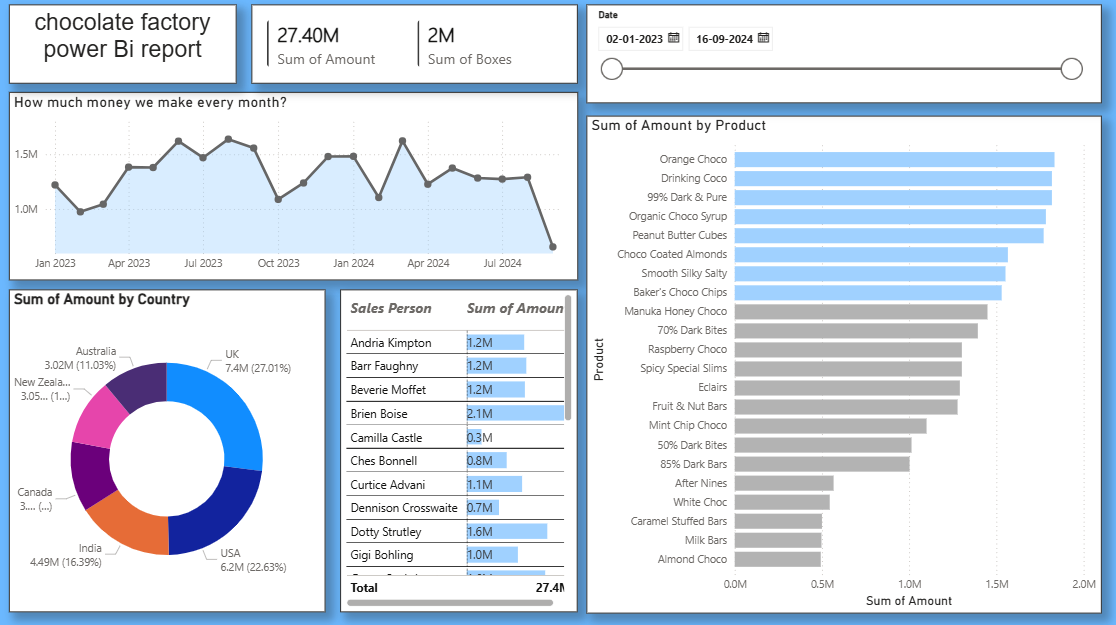

This screenshot's page, from the dashboard's own definition file:
{"tool":"powerbi","page":{"name":"Page 1","canvas":[1280,720],"ordinal":0},"visuals":[{"type":"lineChart","title":"How much money we make every month?","fields":{"Y":["Sum(data.Amount)"],"Category":["data.Date.Variation.Date Hierarchy.Year","data.Date.Variation.Date Hierarchy.Quarter","data.Date.Variation.Date Hierarchy.Month","data.Date.Variation.Date Hierarchy.Day"]},"box":[11.2,108.8,650,215],"z":0},{"type":"donutChart","fields":{"Y":["Sum(data.Amount)"],"Category":["data.Country"]},"box":[11.2,335,361.2,368.8],"z":1000},{"type":"tableEx","fields":{"Values":["data.Sales Person","Sum(data.Amount)"]},"box":[390,335,271.2,368.8],"z":2000},{"type":"clusteredColumnChart","fields":{"Category":["data.Product"],"Y":["Sum(data.Amount)"]},"box":[671.2,108.8,588.8,595],"z":3000},{"type":"cardVisual","fields":{"Data":["Sum(data.Amount)","Sum(data.Boxes)"]},"box":[308.8,8.8,352.5,90],"z":4000},{"type":"slicer","fields":{"Values":["data.Date"]},"box":[772.5,8.8,488.8,90],"z":5000},{"type":"textbox","box":[11.2,8.8,260,90],"z":6000}]}

Visuals, with their boxes in screenshot pixels (x1, y1, x2, y2), scaled from the page's 1280x720 canvas onto the 1116x625 screenshot:
"How much money we make every month?" lineChart: pyautogui.locateOnScreen(10, 94, 576, 281)
donutChart - Sum(data.Amount) x data.Country: pyautogui.locateOnScreen(10, 291, 325, 611)
tableEx - data.Sales Person x Sum(data.Amount): pyautogui.locateOnScreen(340, 291, 576, 611)
clusteredColumnChart - data.Product x Sum(data.Amount): pyautogui.locateOnScreen(585, 94, 1099, 611)
cardVisual - Sum(data.Amount) x Sum(data.Boxes): pyautogui.locateOnScreen(269, 8, 577, 86)
slicer - data.Date: pyautogui.locateOnScreen(674, 8, 1100, 86)
textbox: pyautogui.locateOnScreen(10, 8, 236, 86)
